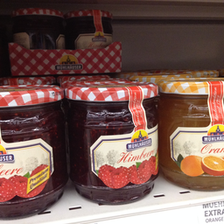jam: (64, 80, 160, 207), (1, 84, 66, 219), (159, 78, 224, 192), (12, 7, 66, 51), (67, 10, 115, 50)
